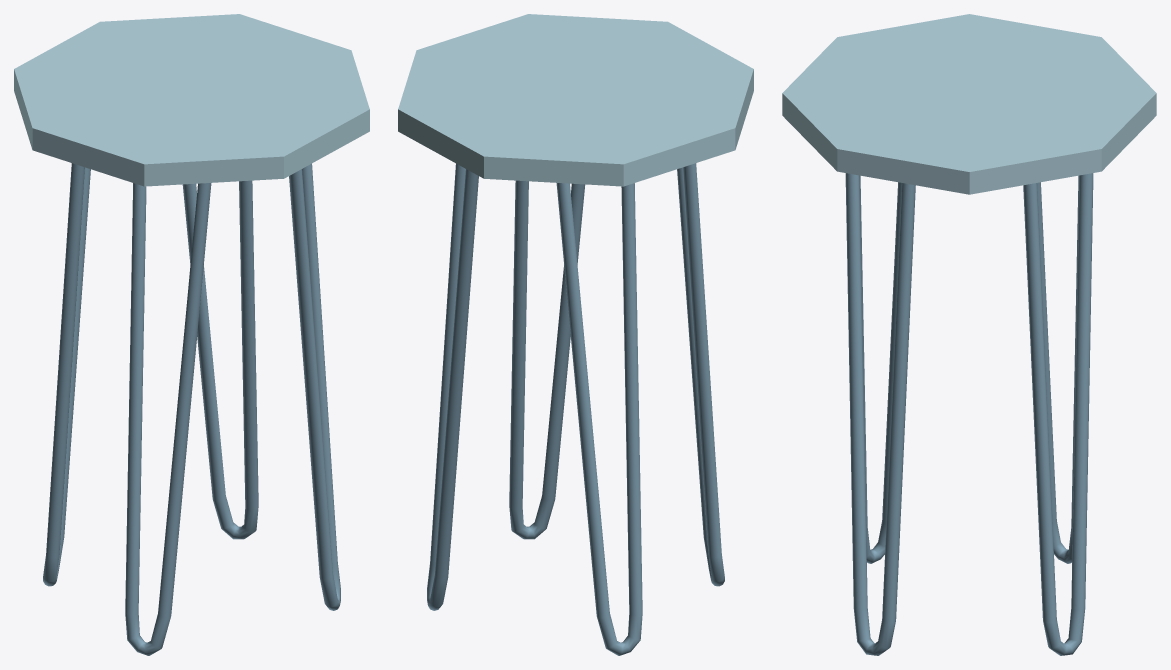
File: Office2_little_table.fbx
3 renders of one model, left to right at view 1: azimuth 30°, elevation 25°; view 2: azimuth 150°, elevation 25°; view 3: azimuth 270°, elevation 25°, orthographic.
Visible parts, largest first — view 1: Office2_little_table; view 2: Office2_little_table; view 3: Office2_little_table.
Part boxes in pixels (x1,y1,x2,y2): Office2_little_table: (14,14,369,655); Office2_little_table: (398,14,753,655); Office2_little_table: (782,14,1156,655).
Bounding box in the file's own units: 88.95 × 135 × 88.95.
